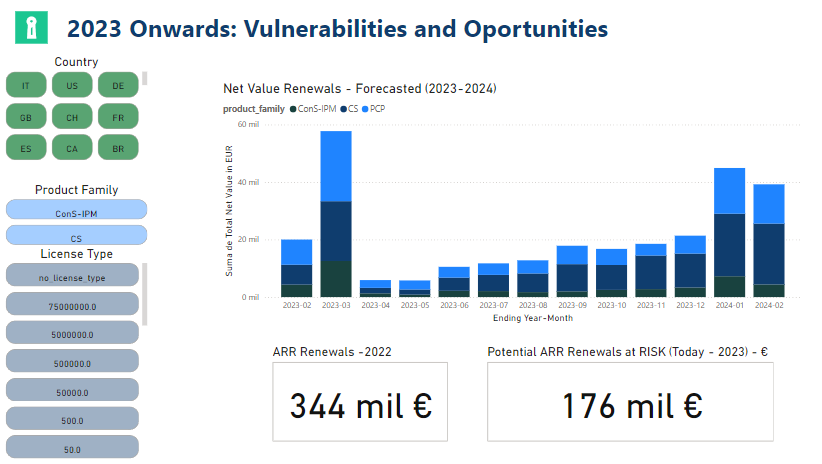

The dashboard page shown, as its layout file describes it:
{"tool":"powerbi","page":{"name":"Forecast","canvas":[1280,720],"ordinal":3},"visuals":[{"type":"columnChart","title":"Net Value Renewals - Forecasted (2023-2024)","fields":{"Category":["subscriptions_renewals.Ending Year-Month"],"Y":["Sum(subscriptions_renewals.Total Net Value in EUR)"],"Series":["subscriptions.product_family"]},"box":[342.9,130.4,897.1,377.1],"z":0},{"type":"cardVisual","title":"Potential ARR Renewals at RISK (Today - 2023) - €","fields":{"Data":["Sum(subscriptions_renewals.Total Net Value in EUR)"]},"box":[747.1,536.1,450,154.3],"z":1000},{"type":"cardVisual","title":"ARR Renewals -2022","fields":{"Data":["Sum(subscriptions_renewals.Total Net Value in EUR)"]},"box":[417.1,536.1,280,154.3],"z":2000},{"type":"advancedSlicerVisual","title":"Country","fields":{"Values":["users.country_code"]},"box":[8.6,90,228.3,168.3],"z":3000},{"type":"advancedSlicerVisual","title":"Product Family","fields":{"Values":["subscriptions.product_family"]},"box":[8.6,285.7,228.6,141.4],"z":4000},{"type":"advancedSlicerVisual","title":"License Type","fields":{"Values":["subscriptions.license_type"]},"box":[8.6,384.3,228.6,335.7],"z":5000},{"type":"image","box":[17.1,18.6,70,60],"z":6000},{"type":"textbox","box":[102.3,18.5,948.5,60],"z":7000}]}

Visuals, with their boxes in screenshot pixels (x1, y1, x2, y2), scaled from the page's 1280x720 canvas onto the 822x464 screenshot:
"Net Value Renewals - Forecasted (2023-2024)" columnChart: 220, 84, 796, 327
"Potential ARR Renewals at RISK (Today - 2023) - €" cardVisual: 480, 345, 769, 445
"ARR Renewals -2022" cardVisual: 268, 345, 448, 445
"Country" advancedSlicerVisual: 6, 58, 152, 166
"Product Family" advancedSlicerVisual: 6, 184, 152, 275
"License Type" advancedSlicerVisual: 6, 248, 152, 463
image: 11, 12, 56, 51
textbox: 66, 12, 675, 51
